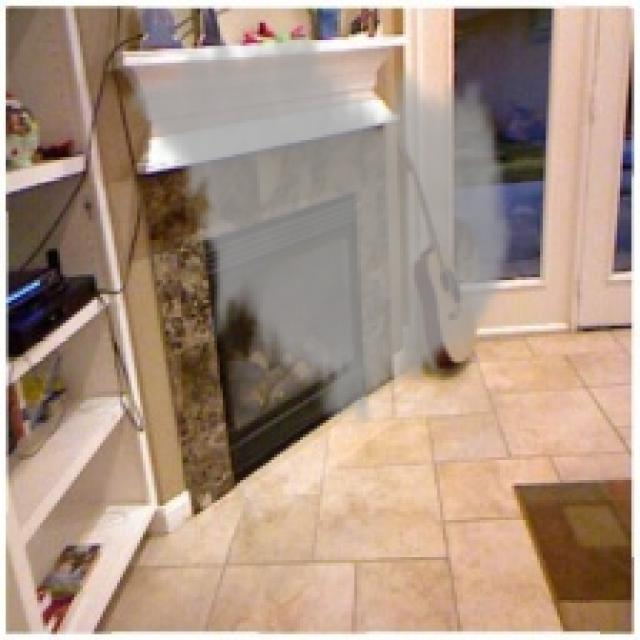Smoke: (125, 8, 518, 434)
